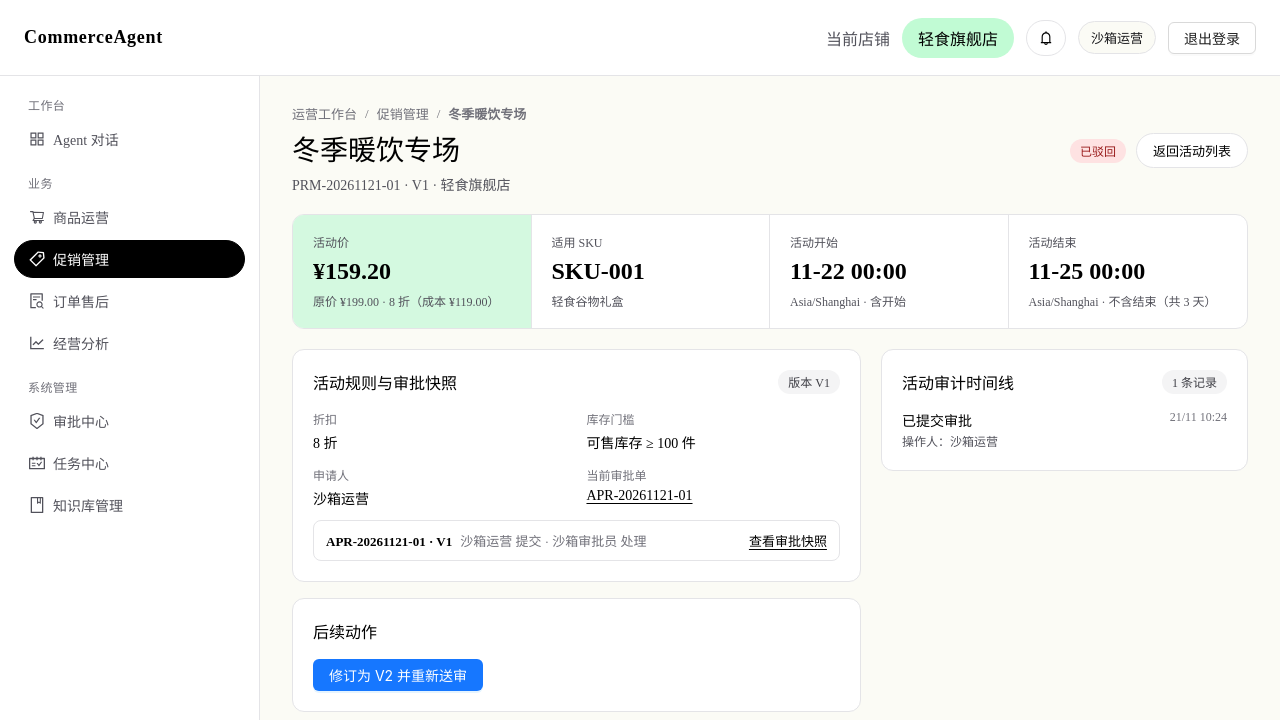
促销管理与审批中心 › loads promotion detail and submits a V2 revision for a rejected promotion
Check: the heading "冬季暖饮专场" is shown, box [292, 135, 460, 166]
Check: the text "¥159.20" is shown, box [313, 258, 391, 284]
Click the button "修订为 V2 并重新送审": click(398, 675) [313, 659, 483, 691]
(page scrolled)
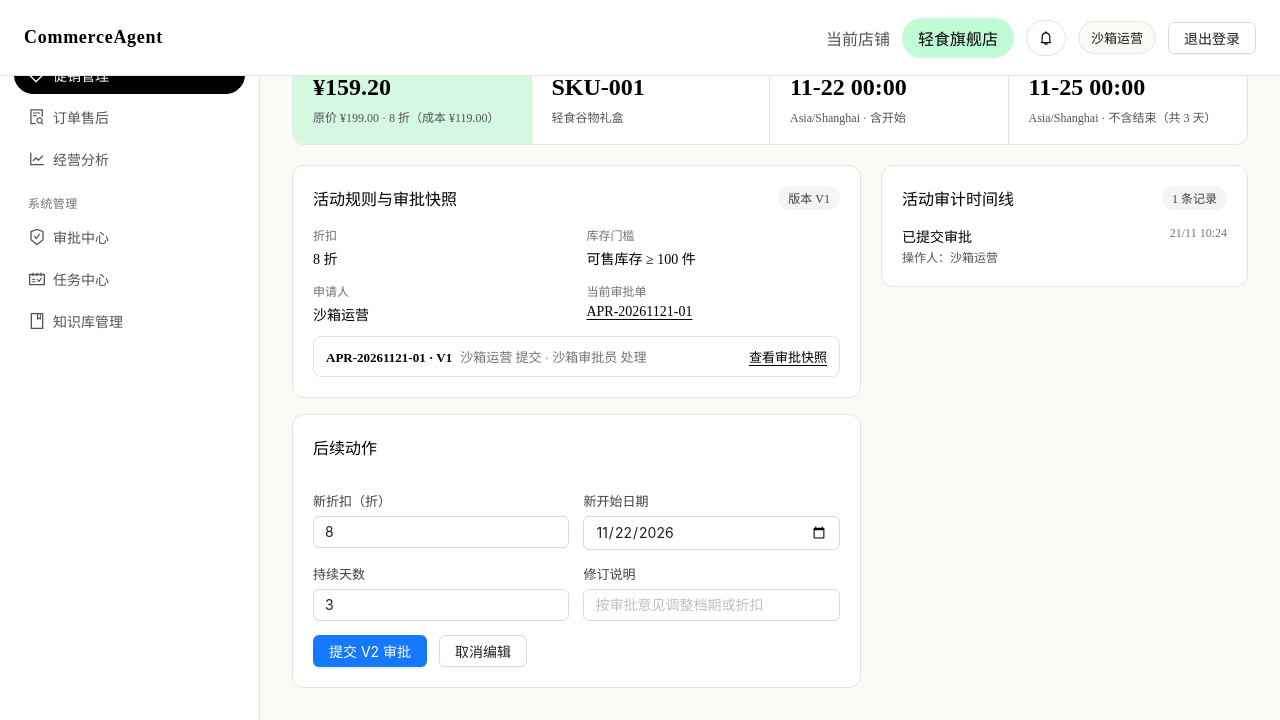
In the date field labelled "新开始日期": (712, 533) [584, 516, 840, 550], type "2026-11-26"
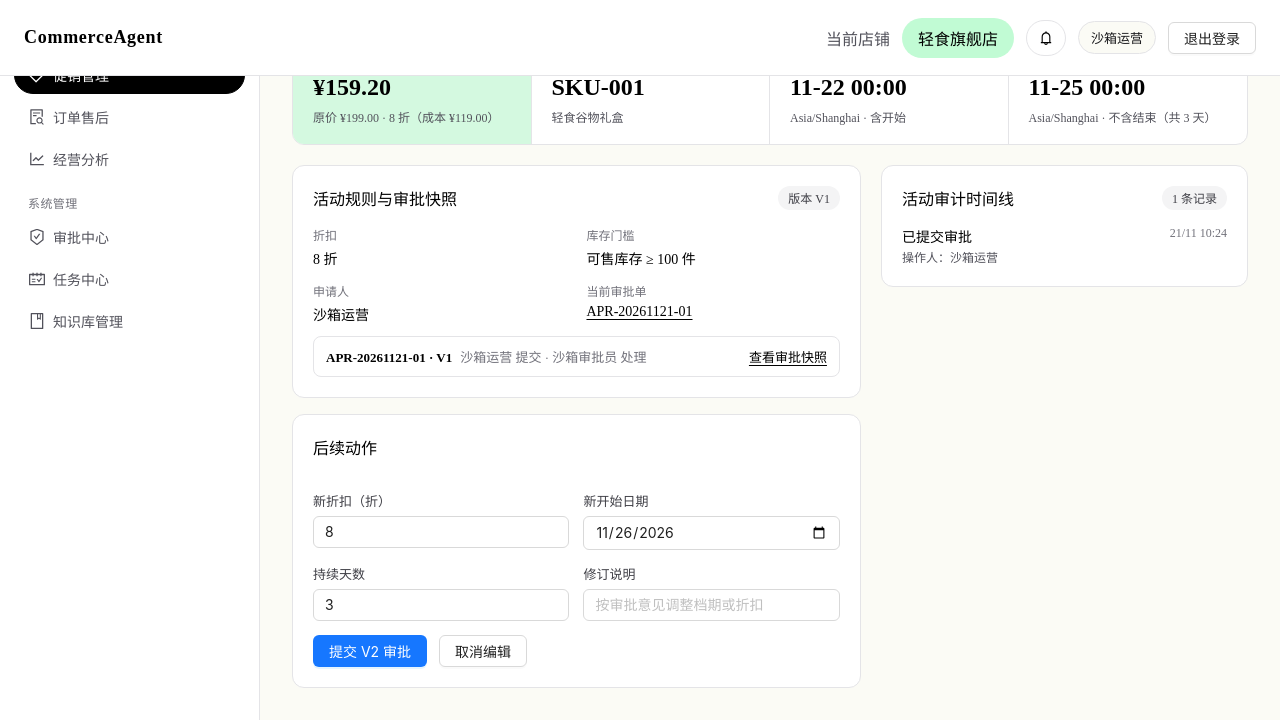
Click the button "提交 V2 审批": click(370, 651) [313, 635, 427, 667]
(page scrolled)
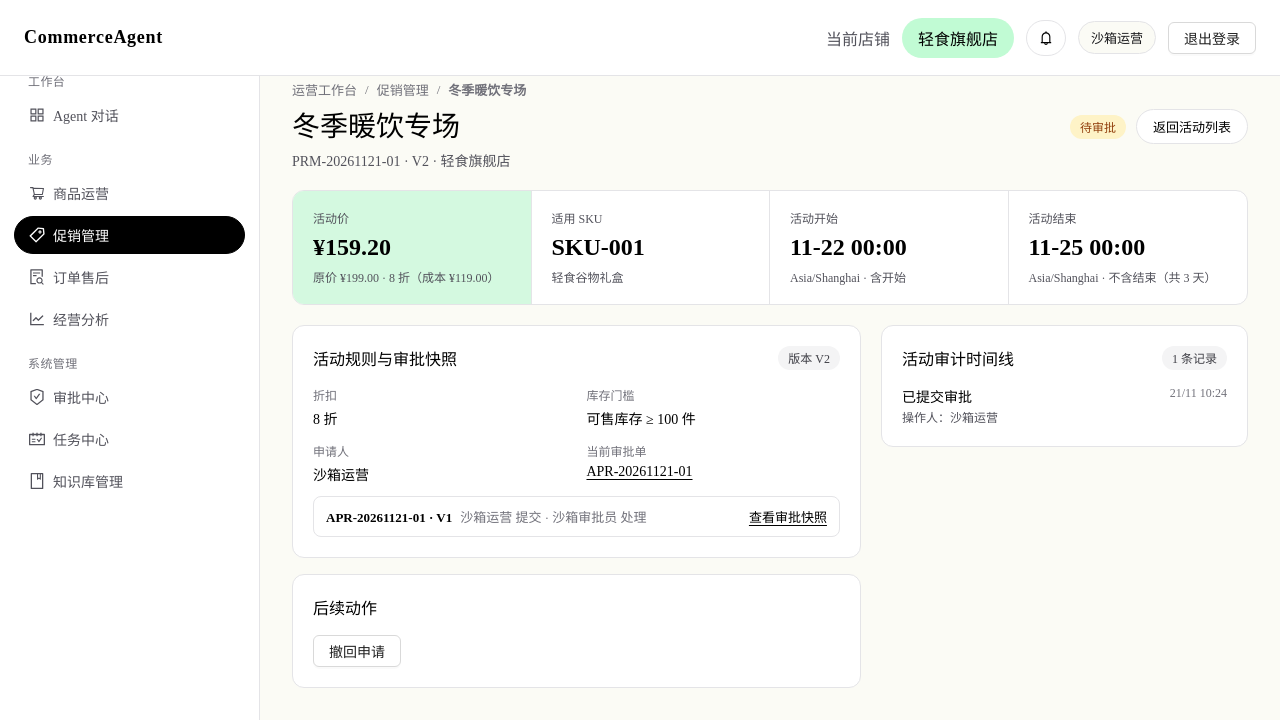
Check: the text "版本 V2" is shown, box [778, 346, 840, 370]
